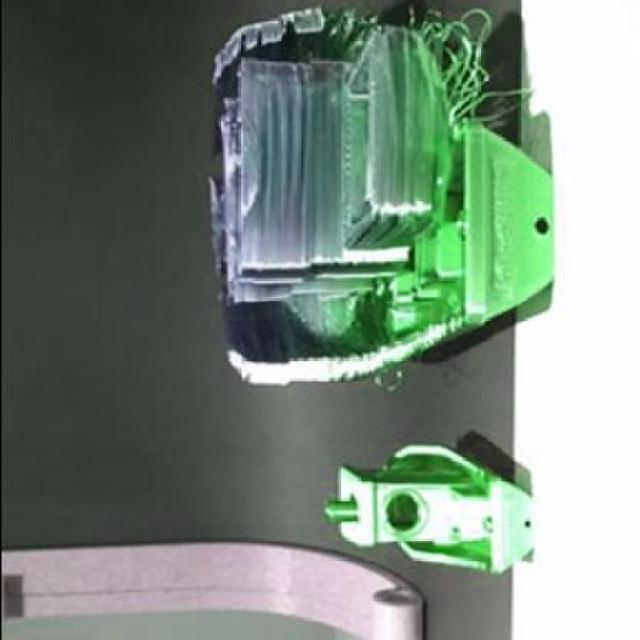Spaghetti: (416, 9, 532, 126), (324, 0, 384, 65), (336, 64, 376, 102), (370, 360, 404, 394)
